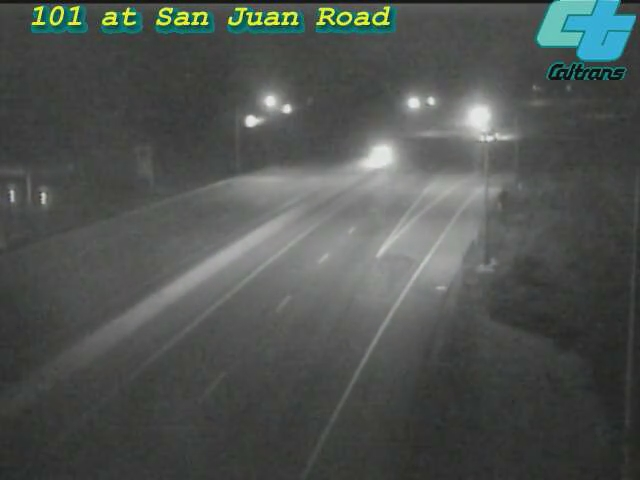vehicle: (353, 130, 403, 180), (452, 92, 502, 142), (465, 110, 515, 160)
